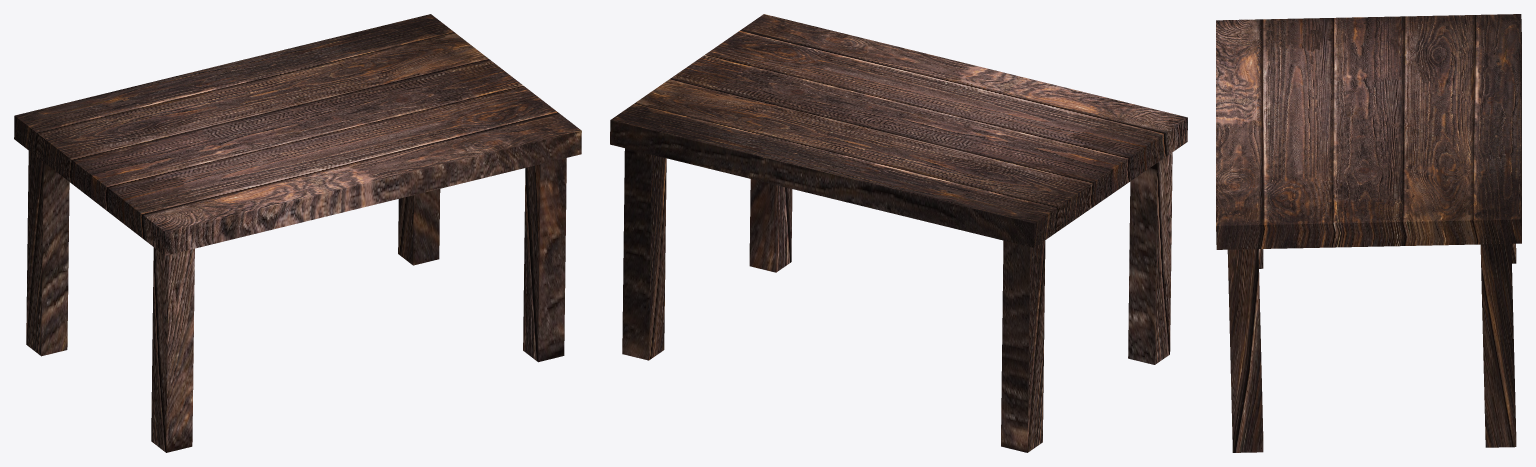
File: mesa.fbx
The picture shows the model from 3 angles, left to right: view 1: azimuth 30°, elevation 25°; view 2: azimuth 150°, elevation 25°; view 3: azimuth 270°, elevation 25°; orthographic projection.
Parts seen in each view (by area): view 1: Cube; view 2: Cube; view 3: Cube.
Boxes of the visible parts, x1,y1,x2,y2 form: Cube: (14,14,581,452); Cube: (610,14,1187,452); Cube: (1216,14,1521,452).
Size of the model in its own units: 319 by 172 by 200.
Materials: 1 (1 with a texture image).
